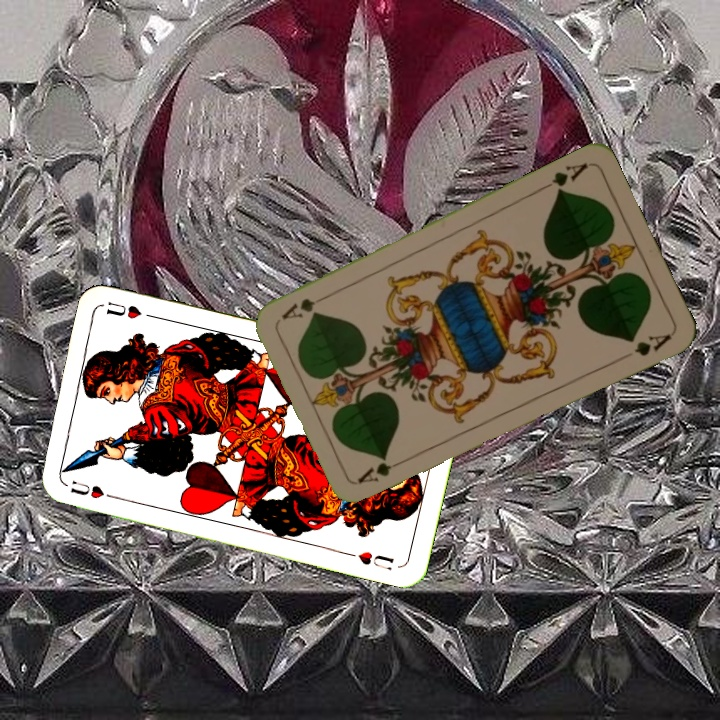GA: (536, 159, 591, 196), (354, 454, 411, 486)
HU: (66, 476, 107, 502)
